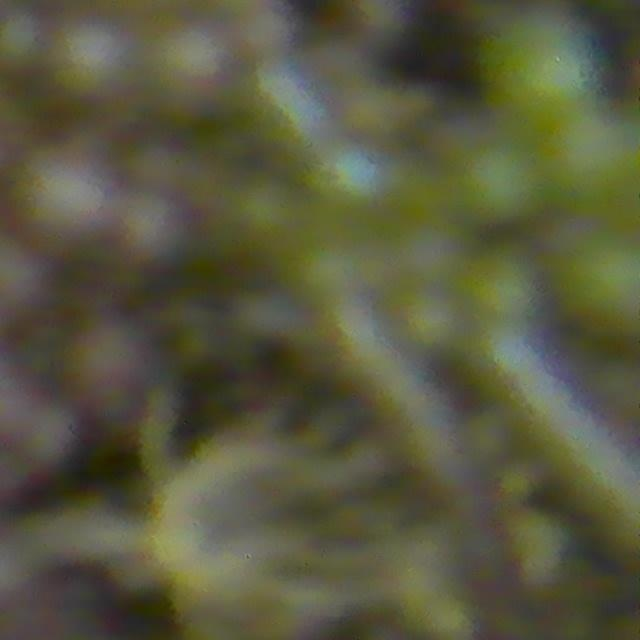SeaGrape: (485, 5, 603, 123), (15, 139, 119, 247), (542, 105, 640, 208), (145, 17, 235, 117), (559, 225, 639, 335), (49, 16, 139, 105), (461, 139, 549, 225), (312, 139, 396, 218), (114, 191, 194, 271), (465, 243, 542, 325), (390, 211, 470, 289), (228, 174, 302, 249), (396, 287, 464, 353), (340, 0, 418, 48)
